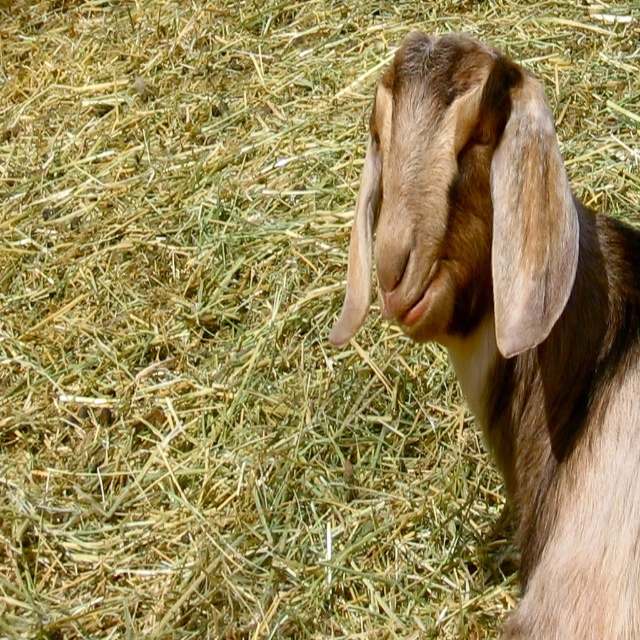Goat: (327, 32, 639, 639)
